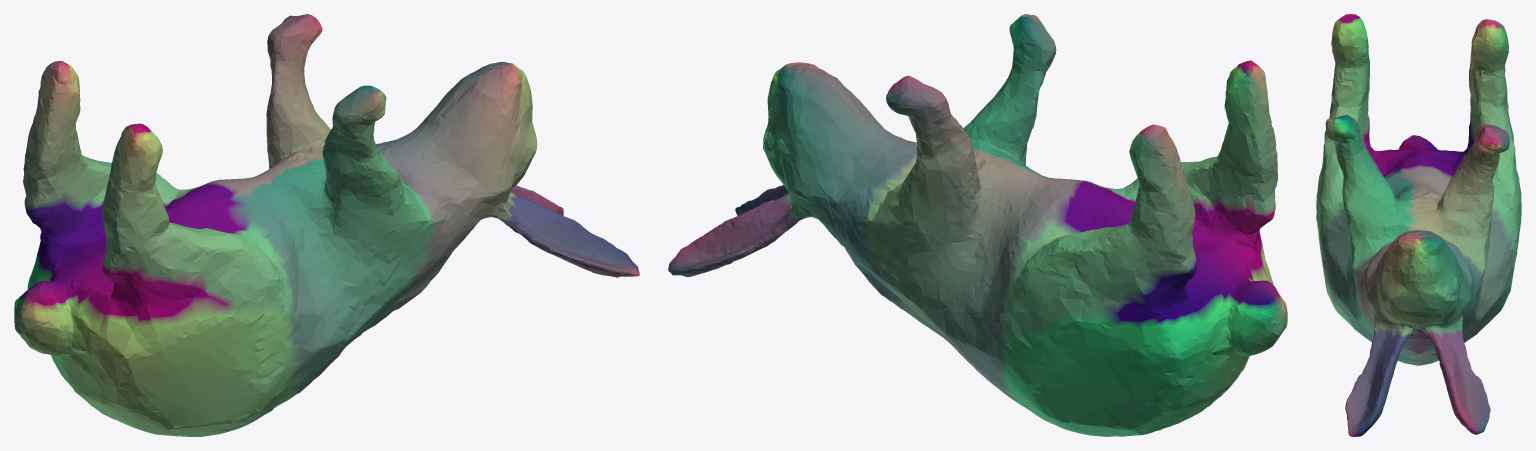
Rendered from rabbit-18.off.obj.
The picture shows the model from 3 angles, left to right: view 1: azimuth 30°, elevation 25°; view 2: azimuth 150°, elevation 25°; view 3: azimuth 270°, elevation 25°; orthographic projection. The views are drawn at different scales.
Size of the model in its own units: 1.46 by 0.8715 by 0.5493.
